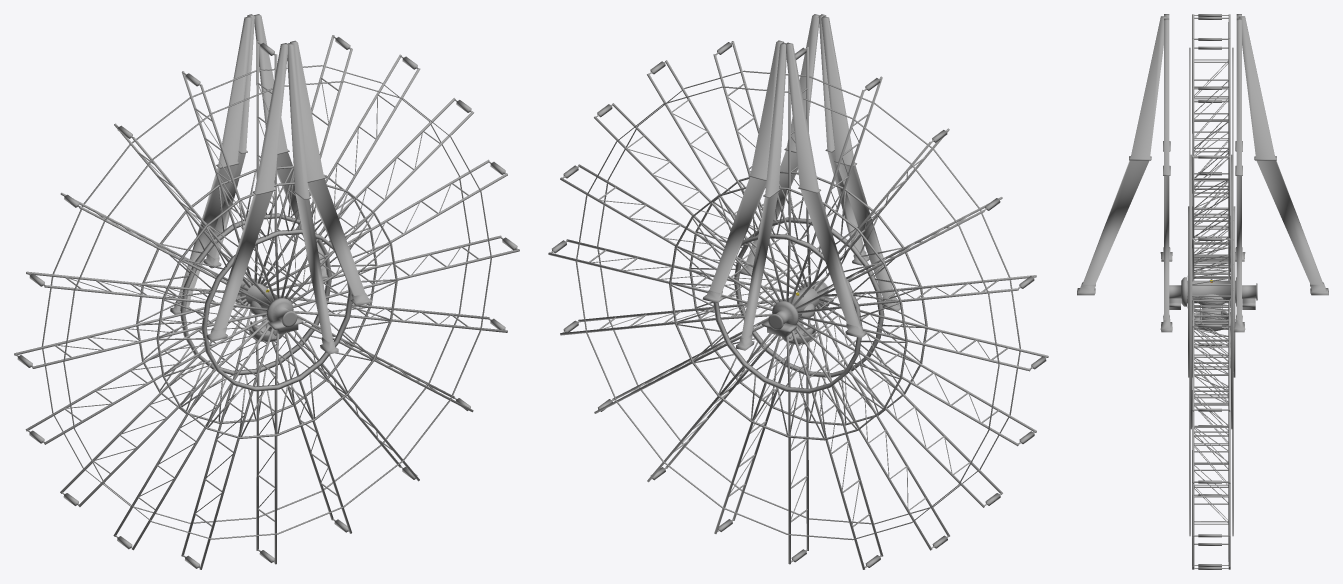
The picture shows the model from 3 angles, left to right: view 1: azimuth 30°, elevation 25°; view 2: azimuth 150°, elevation 25°; view 3: azimuth 270°, elevation 25°; orthographic projection.
Visible parts, largest first — view 1: koleso.001, Object001.001; view 2: koleso.001, Object001.001; view 3: koleso.001, Object001.001, Object002.
Boxes of the visible parts, box(x1,y1,x2,y2) form: koleso.001: box(14, 35, 519, 569); Object001.001: box(170, 14, 372, 354); koleso.001: box(548, 41, 1048, 569); Object001.001: box(702, 14, 900, 350); koleso.001: box(1169, 14, 1257, 569); Object001.001: box(1077, 14, 1328, 332); Object002: box(1194, 294, 1228, 331).
Size of the model in its own units: 14.1 by 14.65 by 6.32.
